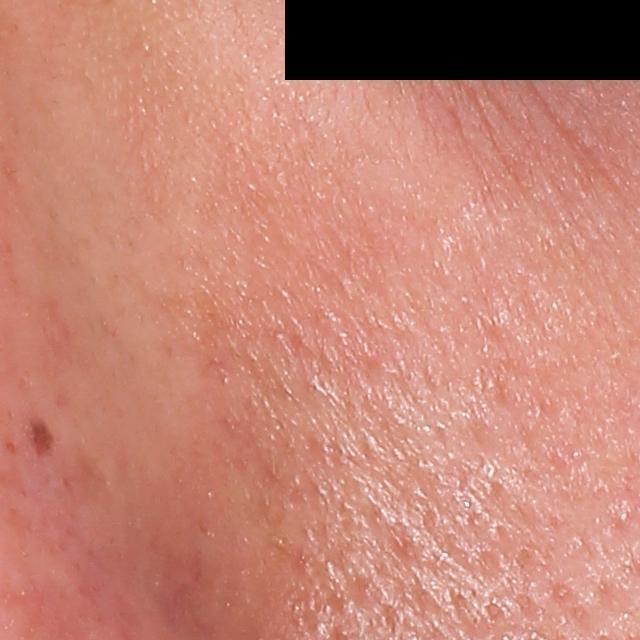nevus: (30, 411, 58, 461)
